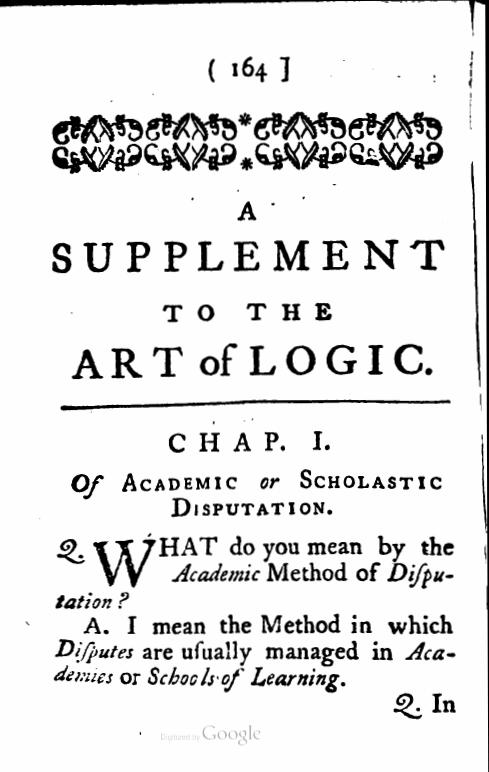catchword: (392, 691, 458, 721)
full_p: (48, 196, 451, 387), (54, 613, 459, 694), (55, 536, 457, 611), (66, 467, 445, 523), (167, 428, 333, 455)
initial_l: (92, 537, 157, 590)
page_num: (226, 53, 270, 84)
viz: (48, 109, 447, 175)
